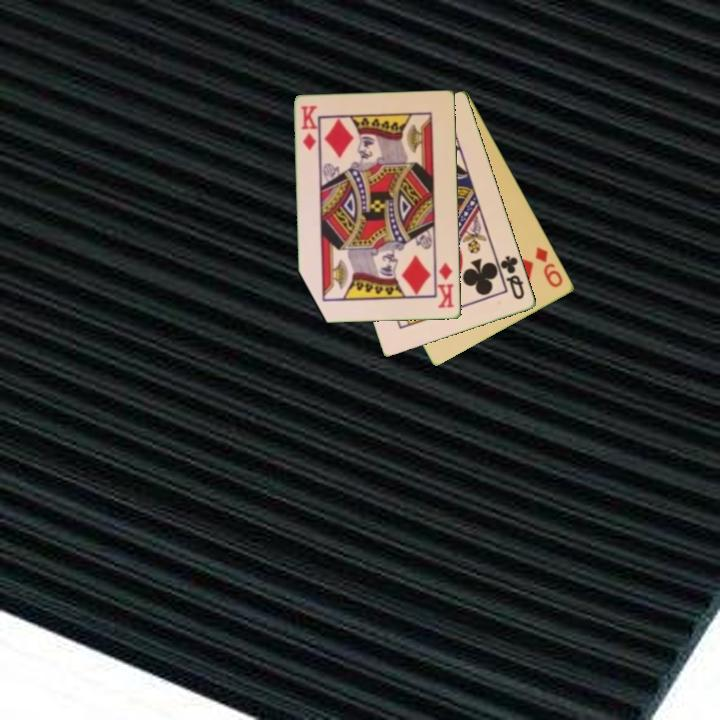9d: (532, 243, 566, 291)
Kd: (433, 257, 457, 311), (298, 102, 320, 153)
Qc: (494, 252, 528, 303)
